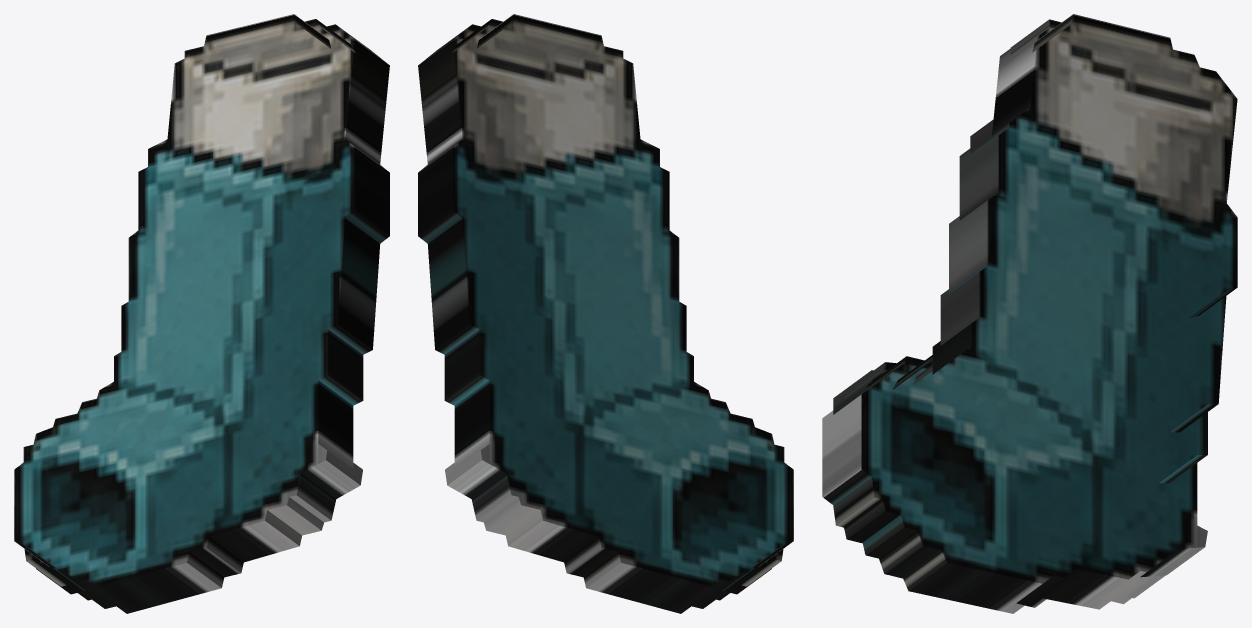
Rendered from inhaler.glb.
3 renders of one model, left to right at view 1: azimuth 30°, elevation 25°; view 2: azimuth 150°, elevation 25°; view 3: azimuth 330°, elevation 25°, orthographic. The views are drawn at different scales.
Visible parts, largest first — view 1: world; view 2: world; view 3: world.
Part boxes in pixels (bbox=[...]): world: bbox=[14, 14, 389, 613]; world: bbox=[418, 14, 793, 613]; world: bbox=[822, 14, 1237, 613].
Bounding box in the file's own units: 1.4 × 2.06 × 0.2484.
1 material, 1 textured.
